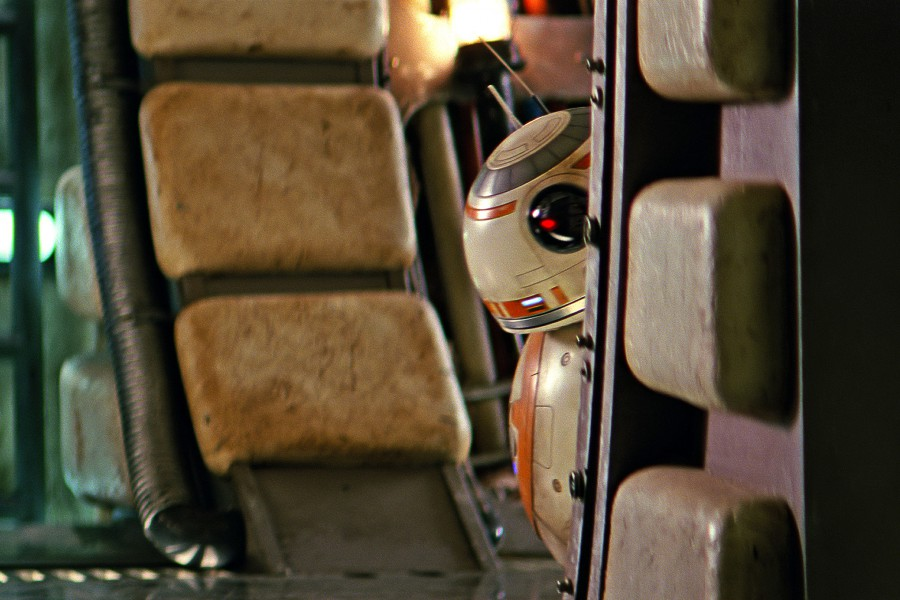bb8: (461, 105, 591, 576)
